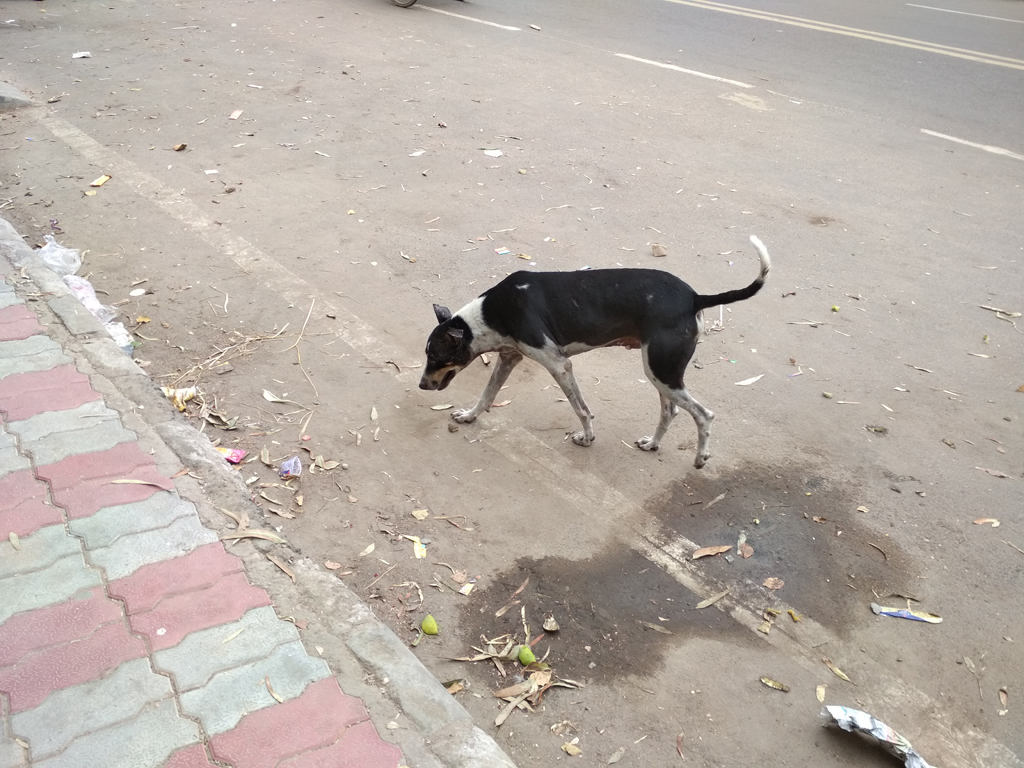dog: (419, 234, 770, 467)
